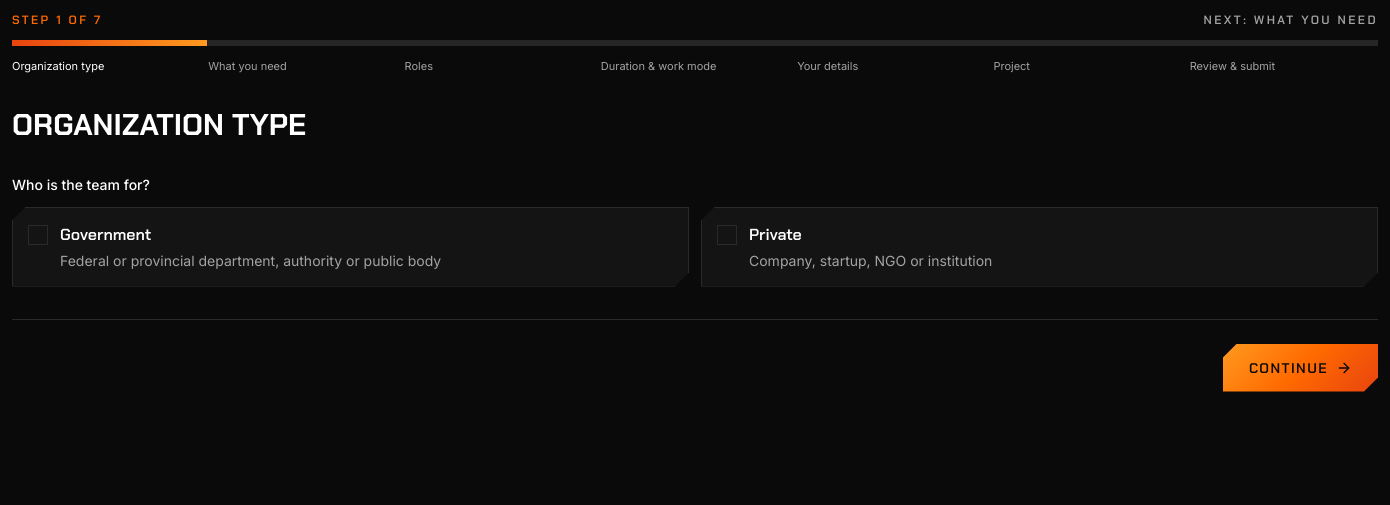
Test case: HireWizard › a single role allows exactly one role row
The width and height of the screenshot is (1390, 505).
Click the radio button labelled "Private Company, startup, NGO or institution". click: (775, 234)
box: top-left (701, 206), bottom-right (1378, 286)
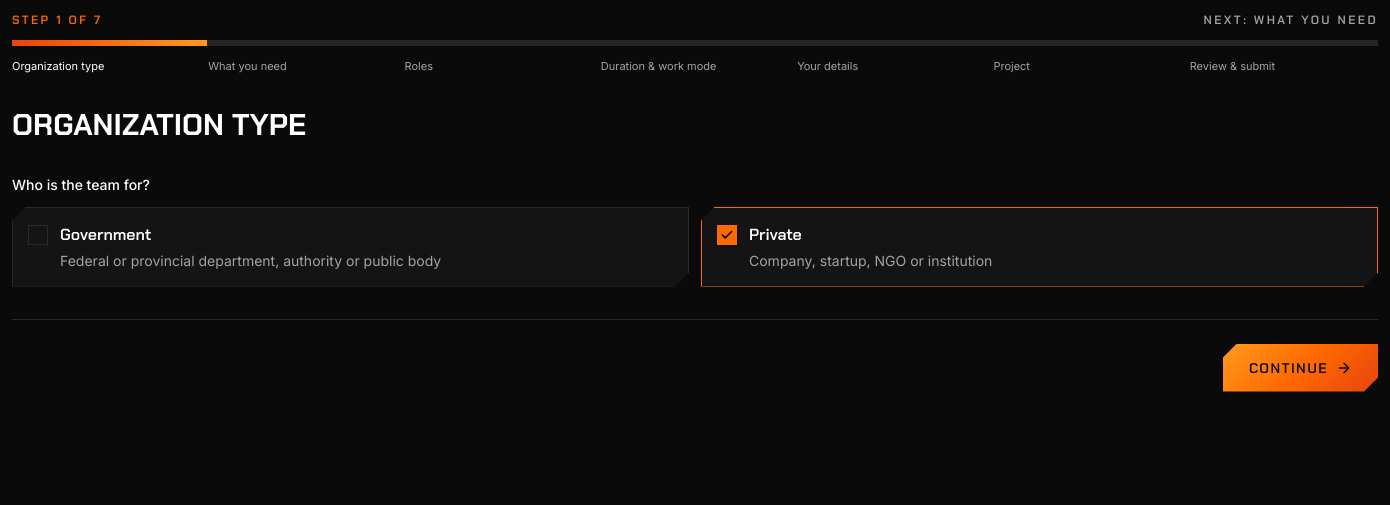
Click the button "Continue". click: (1300, 368)
box: top-left (1223, 344), bottom-right (1378, 392)
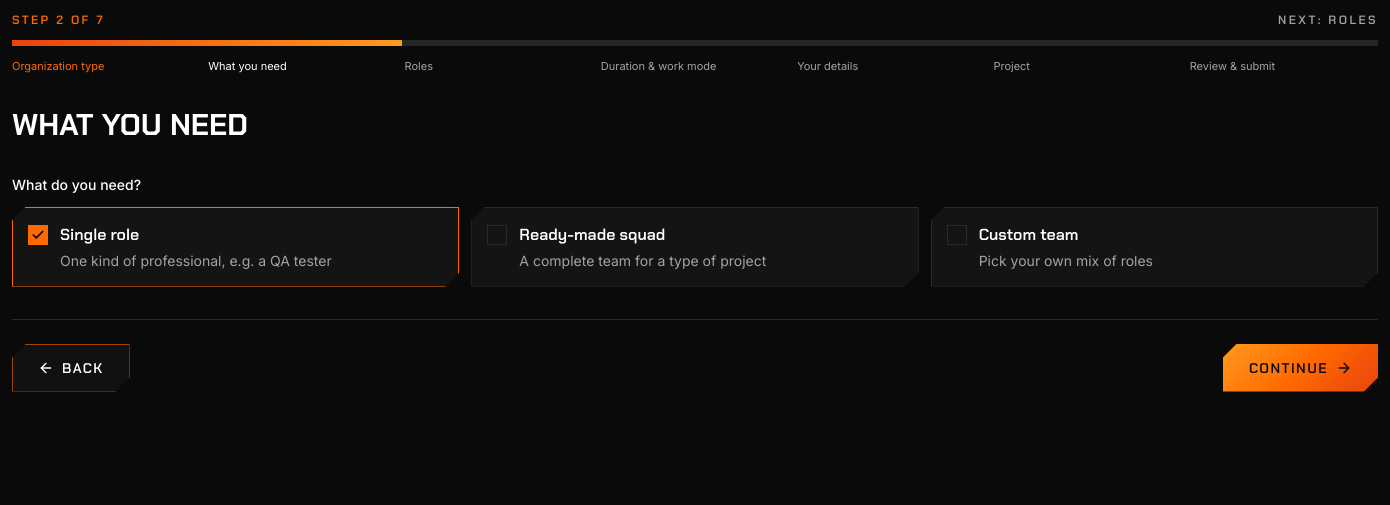
Expected: the list item "What you need" is shown, top-left (208, 59), bottom-right (287, 73)
Expected: the radio button labelled "Single role One kind of professional, e.g. a QA tester" is checked, top-left (12, 206), bottom-right (459, 286)
Click the button "Continue". click: (1300, 368)
box: top-left (1223, 344), bottom-right (1378, 392)
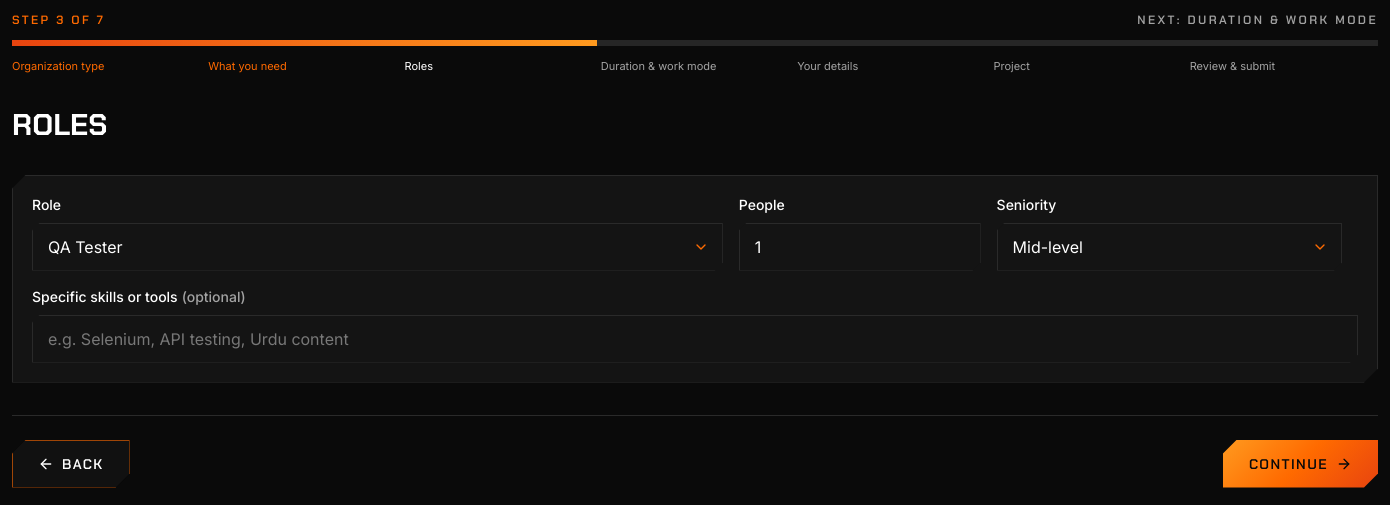
Expected: the list item "Roles" is shown, top-left (405, 59), bottom-right (433, 73)
Expected: the number of dropdowns labelled "Role" is 1, top-left (32, 222), bottom-right (723, 270)
